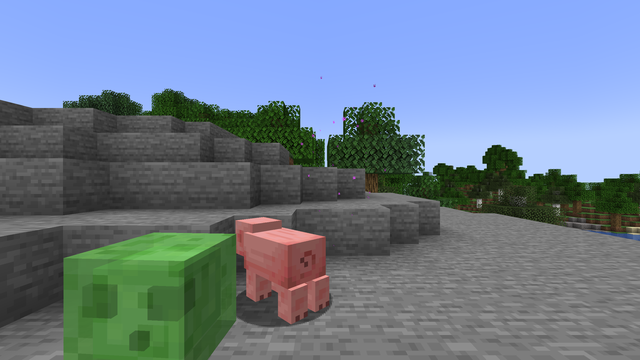cochons: (245, 226, 316, 315)
slimes: (57, 229, 235, 356)
